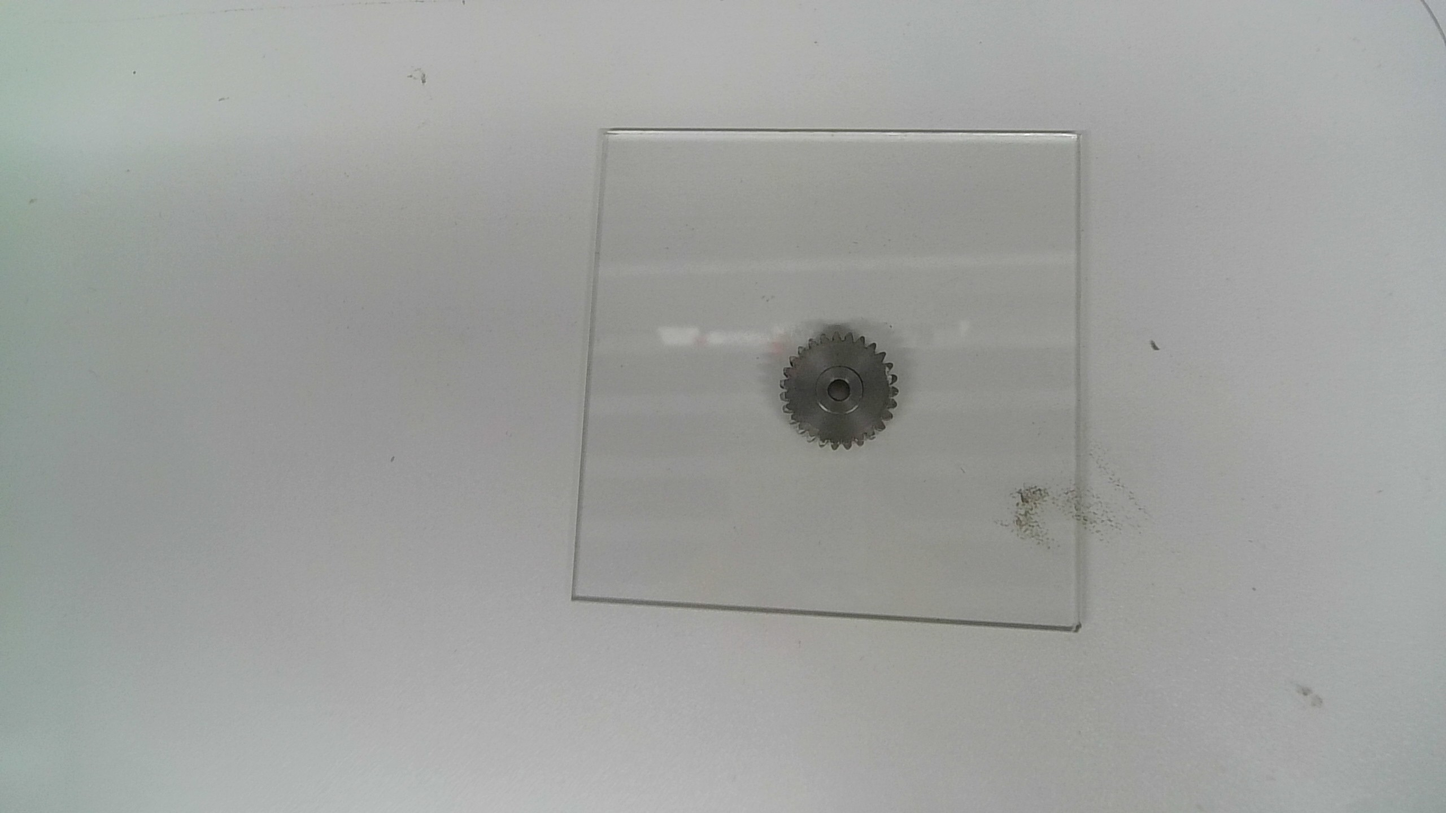gear: (777, 330, 900, 456)
